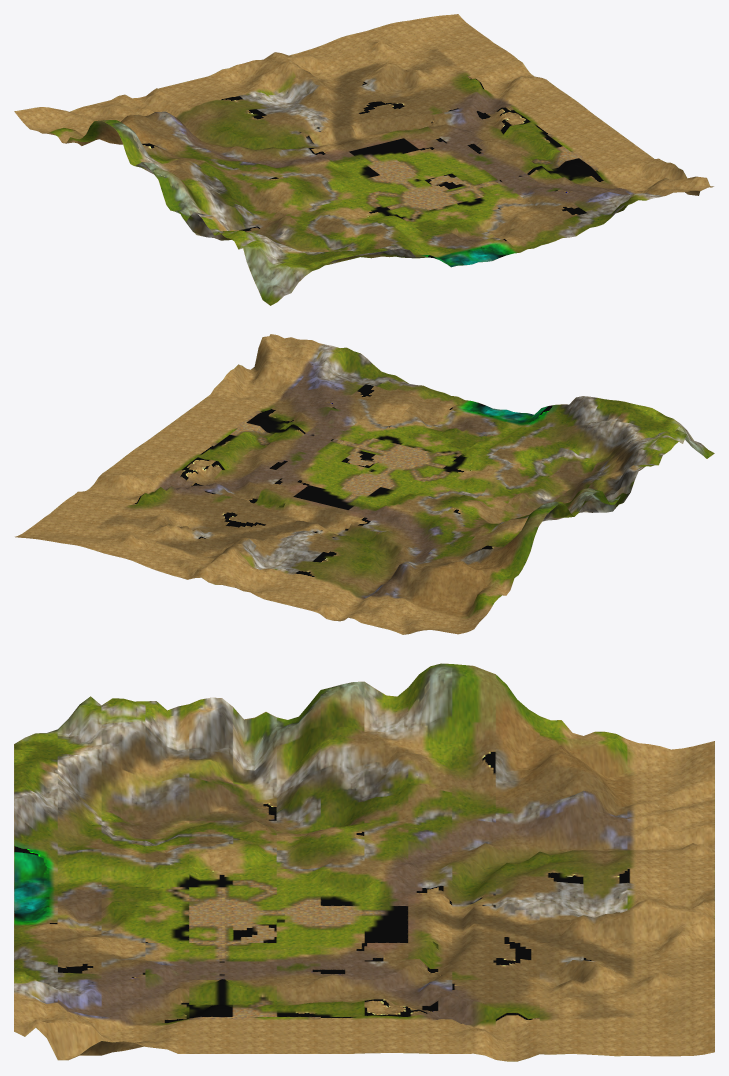
File: terrain.glb
3 views of the same model, one above another, from view 1: azimuth 30°, elevation 25°; view 2: azimuth 150°, elevation 25°; view 3: azimuth 270°, elevation 25° (orthographic). The views are drawn at different scales.
Visible parts, largest first — view 1: terrain_2_2; view 2: terrain_2_2; view 3: terrain_2_2.
Part boxes in pixels (x1=…): terrain_2_2: x1=14, y1=14, x2=713, y2=305; terrain_2_2: x1=15, y1=334, x2=714, y2=634; terrain_2_2: x1=14, y1=663, x2=714, y2=1061.
Size of the model in its own units: 512 by 83.9 by 512.
1 material, 1 textured.
